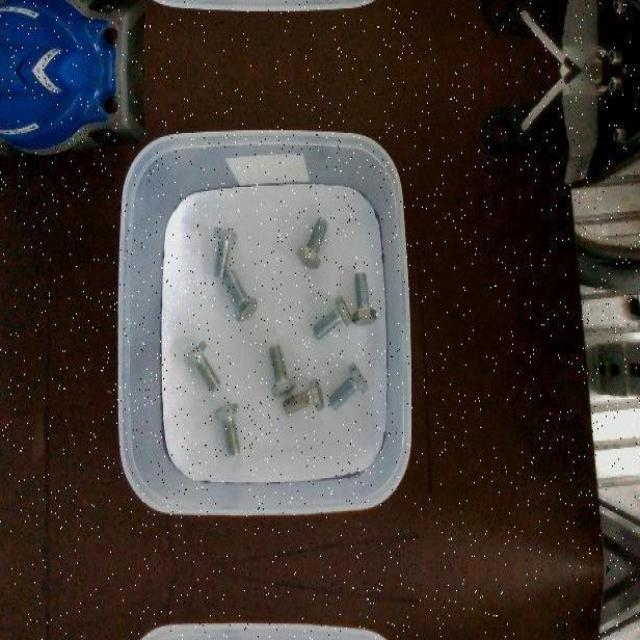screw: (327, 363, 368, 411), (184, 340, 220, 391), (313, 295, 353, 339), (225, 269, 258, 322), (297, 216, 328, 269), (284, 378, 325, 416), (214, 401, 241, 455), (269, 344, 296, 396), (352, 271, 377, 325), (214, 225, 239, 278)
